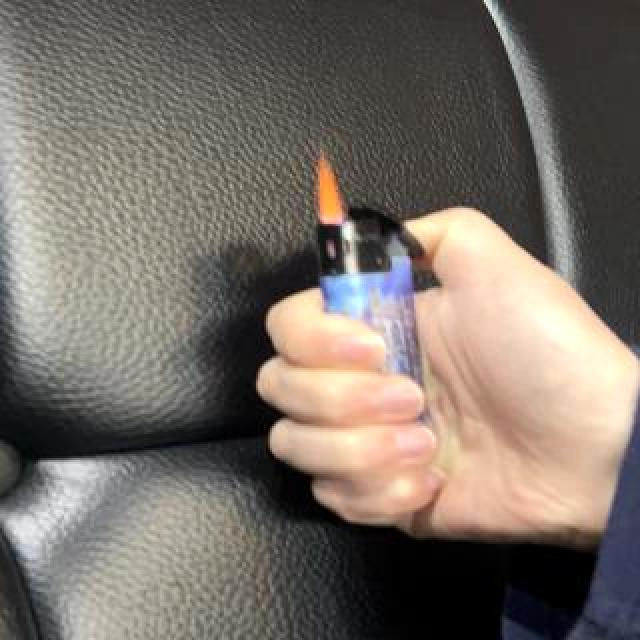fire: (315, 153, 343, 225)
